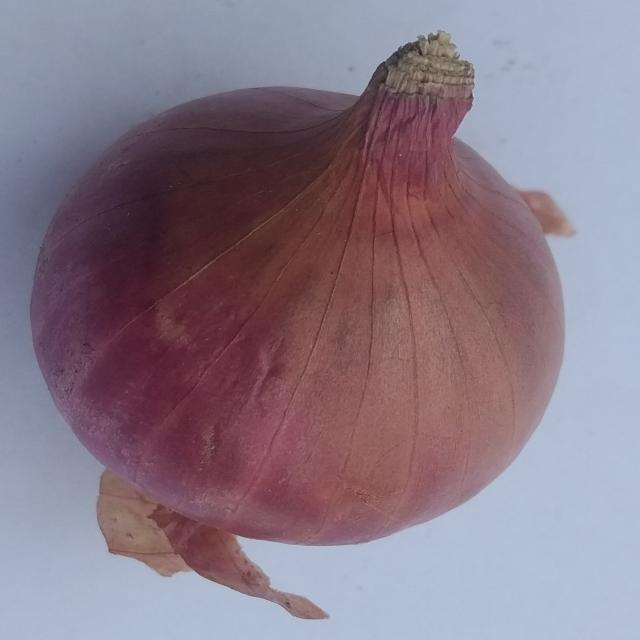onion: (29, 31, 566, 547)
